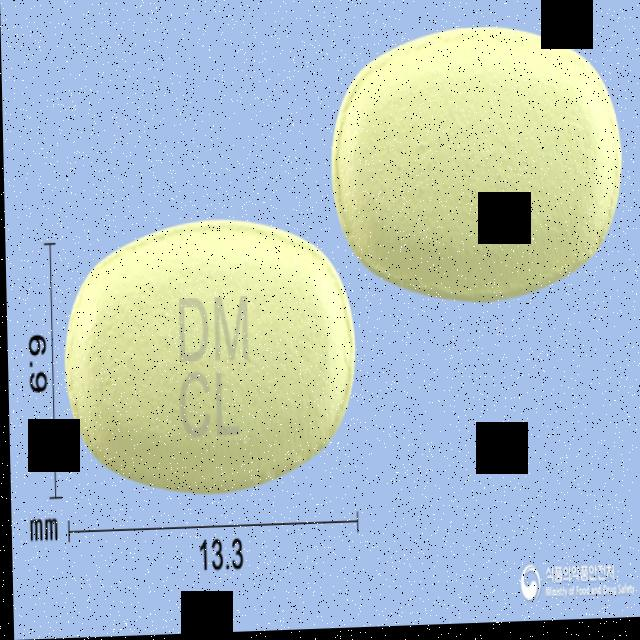Claricin - 250mg: (328, 22, 625, 312), (61, 218, 358, 502)
